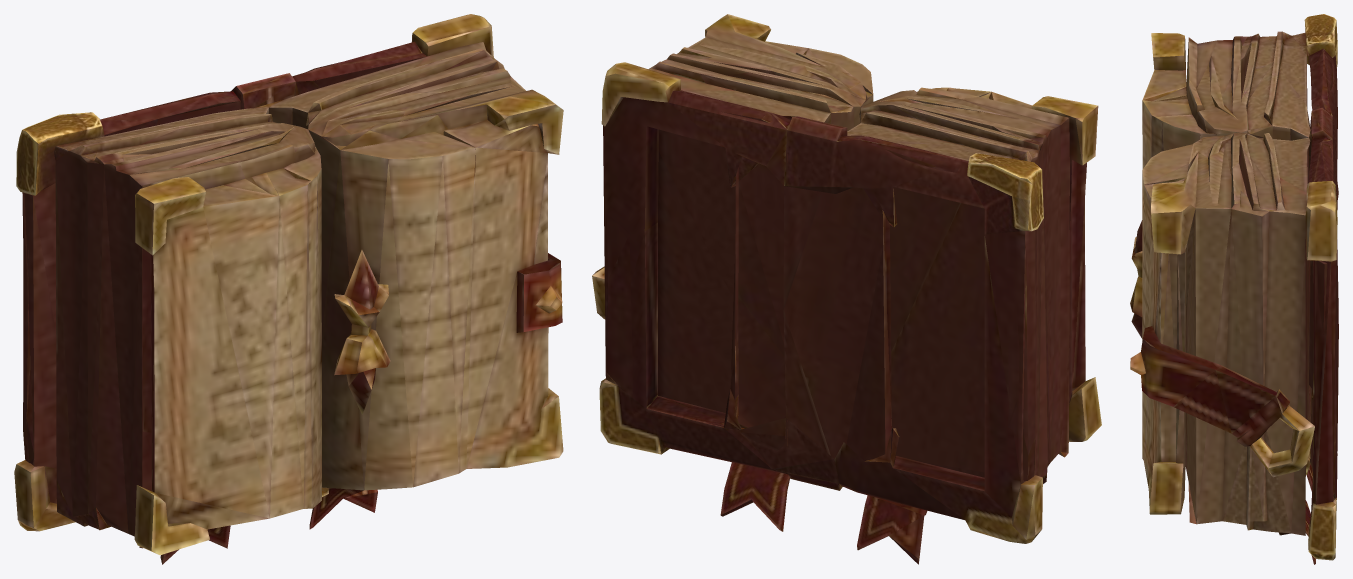
Rendered from magister_book.glb.
3 renders of one model, left to right at view 1: azimuth 30°, elevation 25°; view 2: azimuth 150°, elevation 25°; view 3: azimuth 270°, elevation 25°, orthographic. The views are drawn at different scales.
Size of the model in its own units: 0.7221 by 0.6524 by 0.3016.
Materials: 1 (1 with a texture image).
